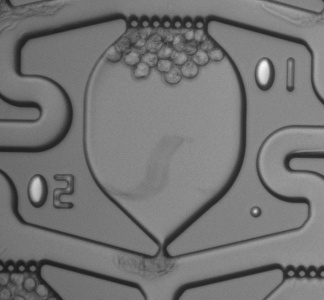AptNum: (244, 52, 306, 97)
Marker: (242, 198, 272, 225)
StNum: (24, 166, 86, 216)
